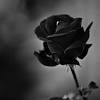rose: (32, 16, 97, 67)
